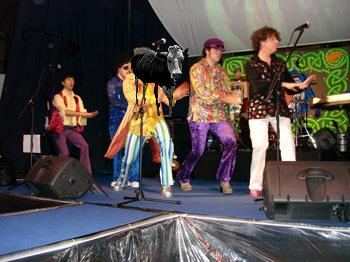tampered: (132, 46, 189, 116)
